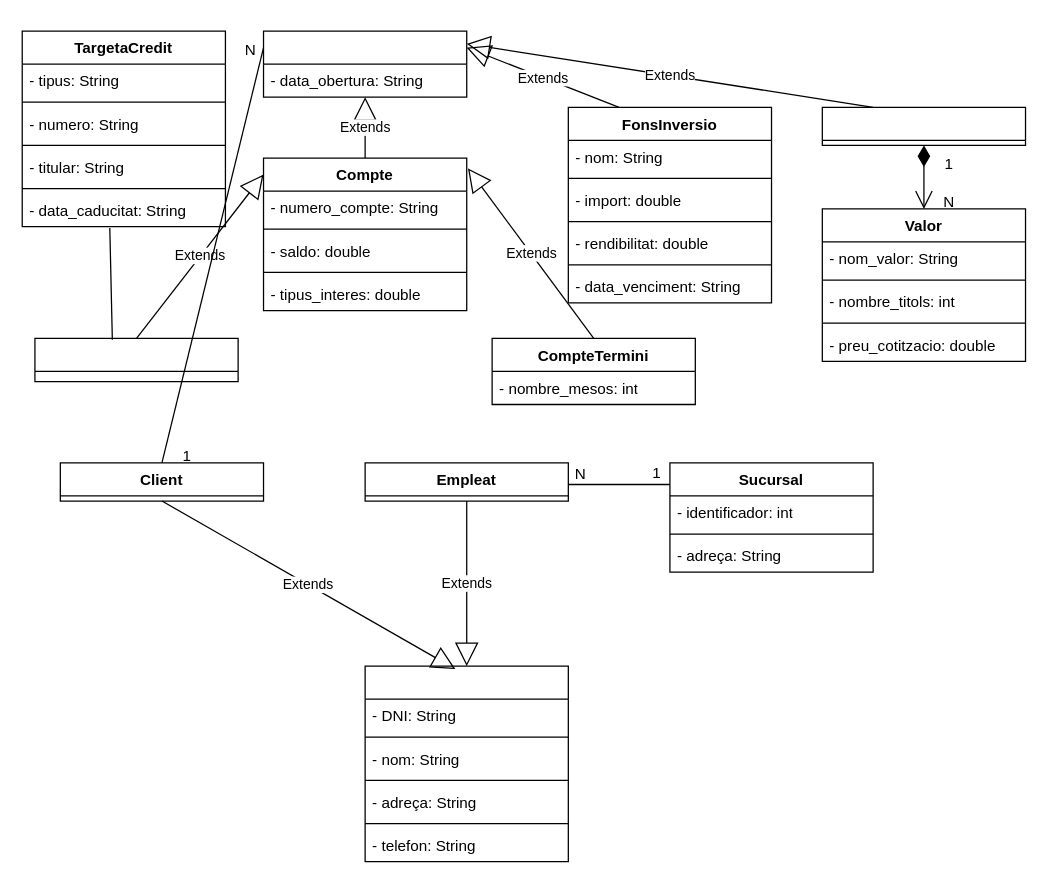
Image size: 1048x888. Some labels were removed from this diagram. Here are the shapes that lost their labels. From the top down, the box of each, then its label:
(262, 30, 467, 97): Producte
(821, 106, 1026, 145): CarteraValors
(34, 337, 238, 382): CompteCorrent
(364, 665, 568, 862): Persona
